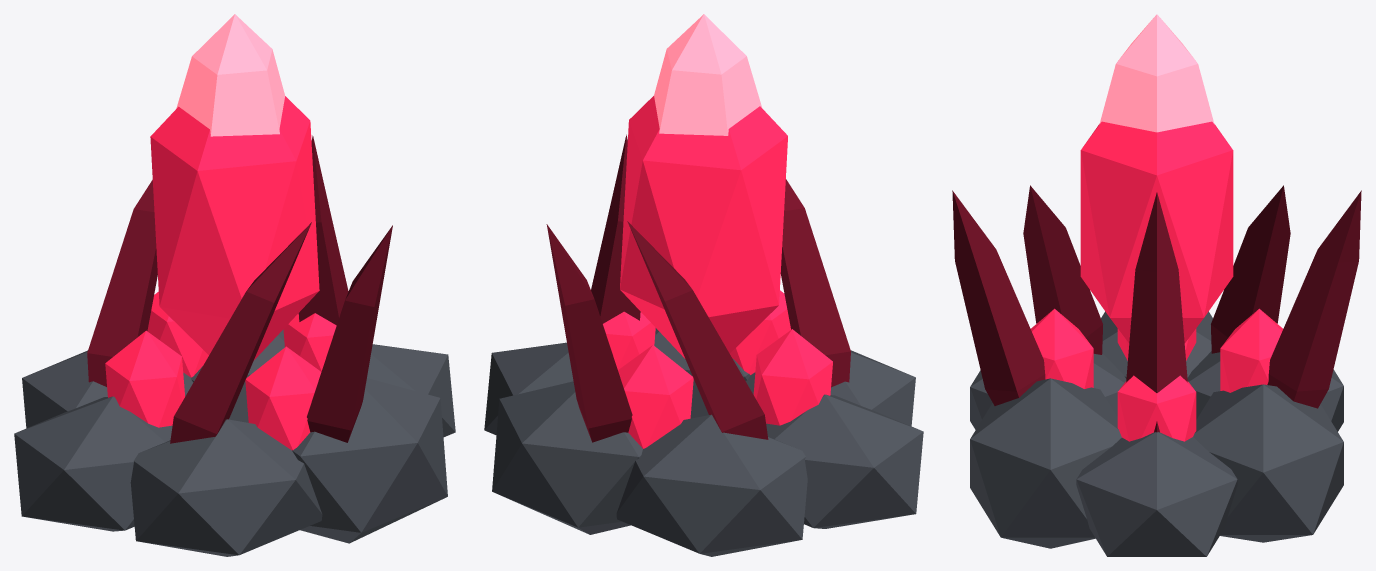
Rendered from blood_crystal_node.fbx.
The picture shows the model from 3 angles, left to right: view 1: azimuth 30°, elevation 25°; view 2: azimuth 150°, elevation 25°; view 3: azimuth 270°, elevation 25°; orthographic projection.
Parts seen in each view (by area): view 1: Blood_Bedrock.002, Blood_Crystal.002, Blood_Accent.002, Blood_Glow.002; view 2: Blood_Bedrock.002, Blood_Crystal.002, Blood_Accent.002, Blood_Glow.002; view 3: Blood_Bedrock.002, Blood_Accent.002, Blood_Crystal.002, Blood_Glow.002.
Boxes of the visible parts, x1,y1,x2,y2 form: Blood_Bedrock.002: (14, 329, 455, 556); Blood_Crystal.002: (105, 96, 336, 450); Blood_Accent.002: (87, 135, 392, 443); Blood_Glow.002: (176, 14, 284, 136); Blood_Bedrock.002: (484, 328, 923, 556); Blood_Crystal.002: (603, 96, 832, 448); Blood_Accent.002: (546, 134, 850, 442); Blood_Glow.002: (654, 14, 761, 135); Blood_Bedrock.002: (970, 311, 1343, 556); Blood_Accent.002: (952, 185, 1361, 432); Blood_Crystal.002: (1031, 121, 1282, 441); Blood_Glow.002: (1099, 14, 1214, 132).
Bounding box in the file's own units: 192 × 218 × 160.
